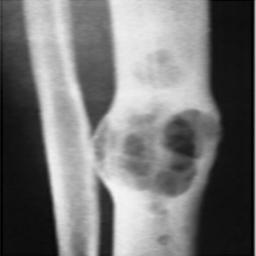cancer: (94, 45, 225, 252)
